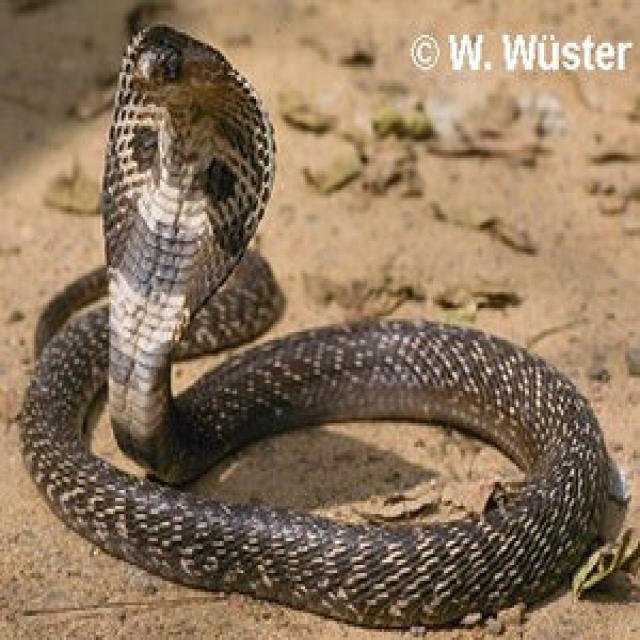Snake: (19, 14, 614, 634)
